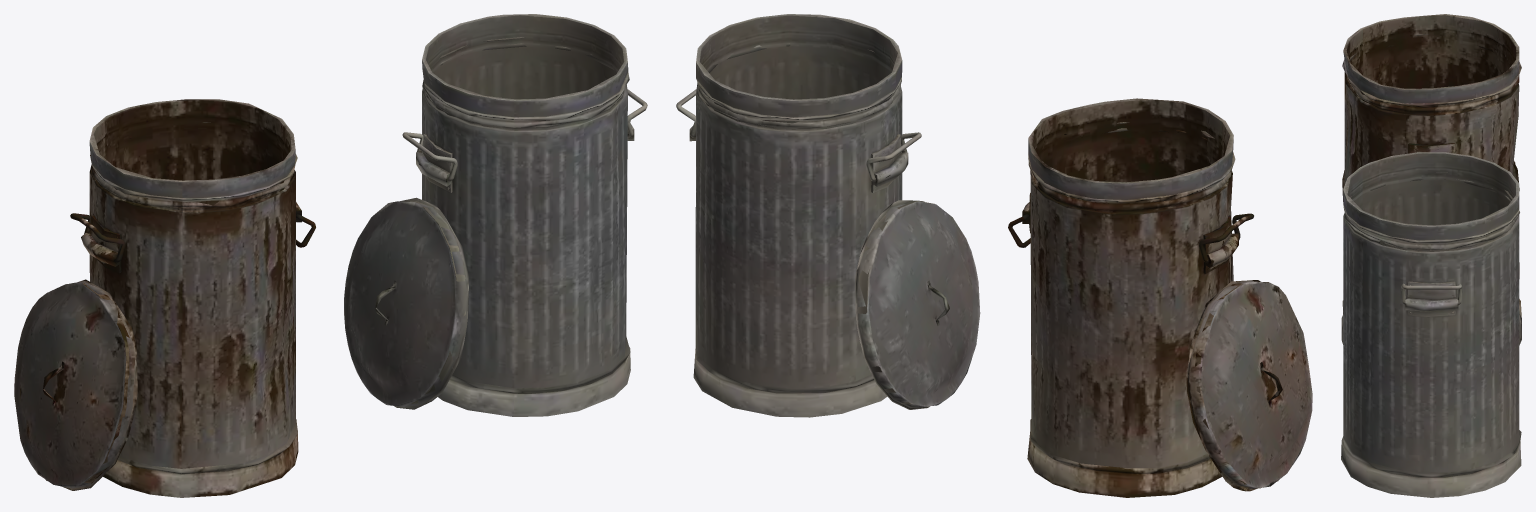
Rendered from metal_trash_can.glb.
3 renders of one model, left to right at view 1: azimuth 30°, elevation 25°; view 2: azimuth 150°, elevation 25°; view 3: azimuth 270°, elevation 25°, orthographic. The views are drawn at different scales.
Visible parts, largest first — view 1: metal_trash_can, metal_trash_can_rust, metal_trash_can_lid, metal_trash_can_rust_lid; view 2: metal_trash_can, metal_trash_can_rust, metal_trash_can_lid, metal_trash_can_rust_lid; view 3: metal_trash_can, metal_trash_can_rust, metal_trash_can_handle_right.
Part boxes in pixels (<box>): metal_trash_can: <box>416,14,634,416</box>; metal_trash_can_rust: <box>81,99,301,497</box>; metal_trash_can_lid: <box>344,197,469,409</box>; metal_trash_can_rust_lid: <box>14,279,137,490</box>; metal_trash_can: <box>689,14,908,417</box>; metal_trash_can_rust: <box>1022,98,1238,497</box>; metal_trash_can_lid: <box>855,200,980,409</box>; metal_trash_can_rust_lid: <box>1186,280,1312,491</box>; metal_trash_can: <box>1341,152,1521,497</box>; metal_trash_can_rust: <box>1342,14,1521,316</box>; metal_trash_can_handle_right: <box>1401,283,1462,304</box>.
Bounding box in the file's own units: 1.78 × 0.9062 × 0.5496.
Materials: 2 (2 with a texture image).
